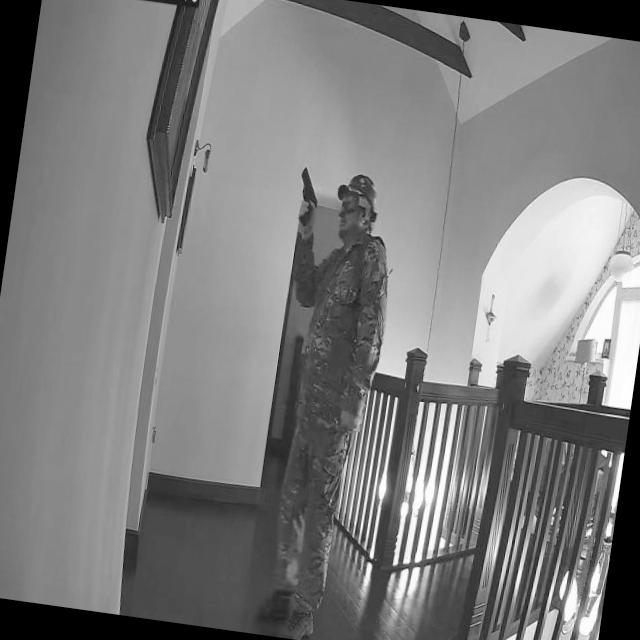gun: (292, 164, 324, 227)
person with a gun: (260, 164, 407, 640)
